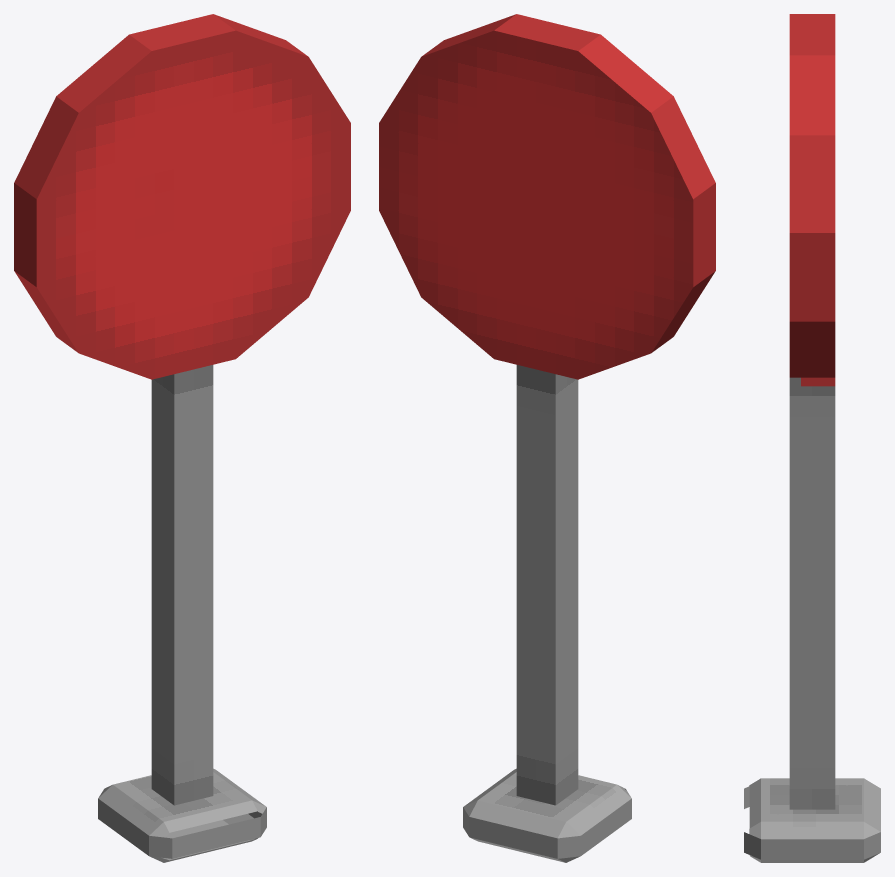
Rendered from Stopsign.fbx.
The picture shows the model from 3 angles, left to right: view 1: azimuth 30°, elevation 25°; view 2: azimuth 150°, elevation 25°; view 3: azimuth 270°, elevation 25°; orthographic projection.
Parts seen in each view (by area): view 1: cuboid; view 2: cuboid; view 3: cuboid.
Part boxes in pixels (x1=…): cuboid: x1=14, y1=14, x2=350, y2=862; cuboid: x1=379, y1=14, x2=715, y2=862; cuboid: x1=744, y1=14, x2=880, y2=862.
Bounding box in the file's own units: 100 × 244 × 37.5.
1 material, 1 textured.
